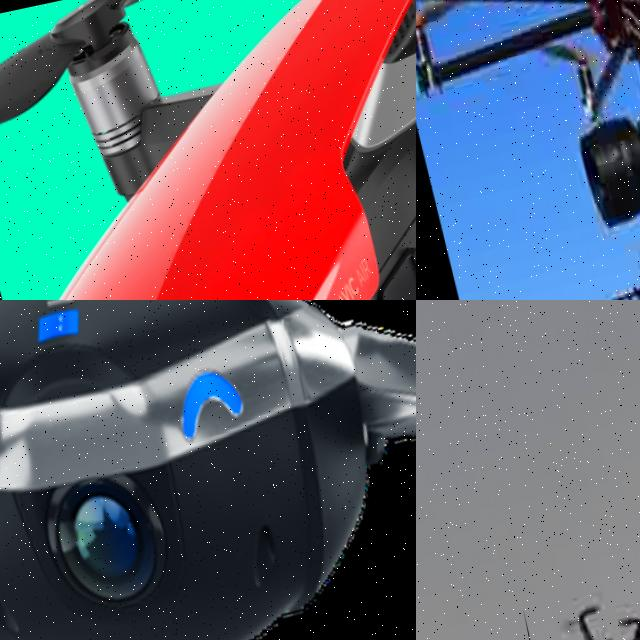0: (416, 0, 640, 300)
drone: (0, 300, 416, 640), (0, 0, 416, 300)
